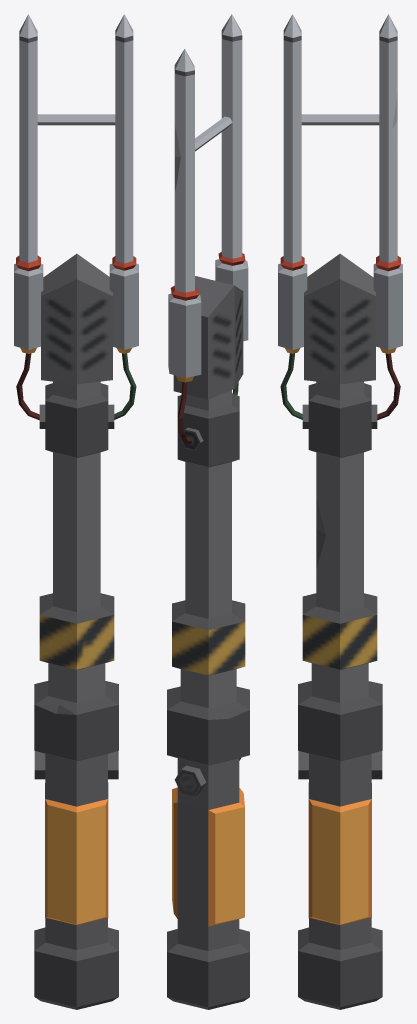
File: SM_Wep_Shock_Stick_01.fbx
The picture shows the model from 3 angles, left to right: view 1: azimuth 90°, elevation 25°; view 2: azimuth 150°, elevation 25°; view 3: azimuth 270°, elevation 25°; orthographic projection.
Visible parts, largest first — view 1: SM_Wep_Shock_Stick_01; view 2: SM_Wep_Shock_Stick_01; view 3: SM_Wep_Shock_Stick_01.
Part boxes in pixels (box(x1,y1,x2,y2)): SM_Wep_Shock_Stick_01: box(14, 14, 138, 1009); SM_Wep_Shock_Stick_01: box(167, 14, 249, 1009); SM_Wep_Shock_Stick_01: box(278, 14, 402, 1009).
Bounding box in the file's own units: 8.64 × 95.81 × 11.08.
